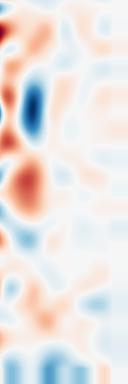filament: (2, 150, 53, 219)
